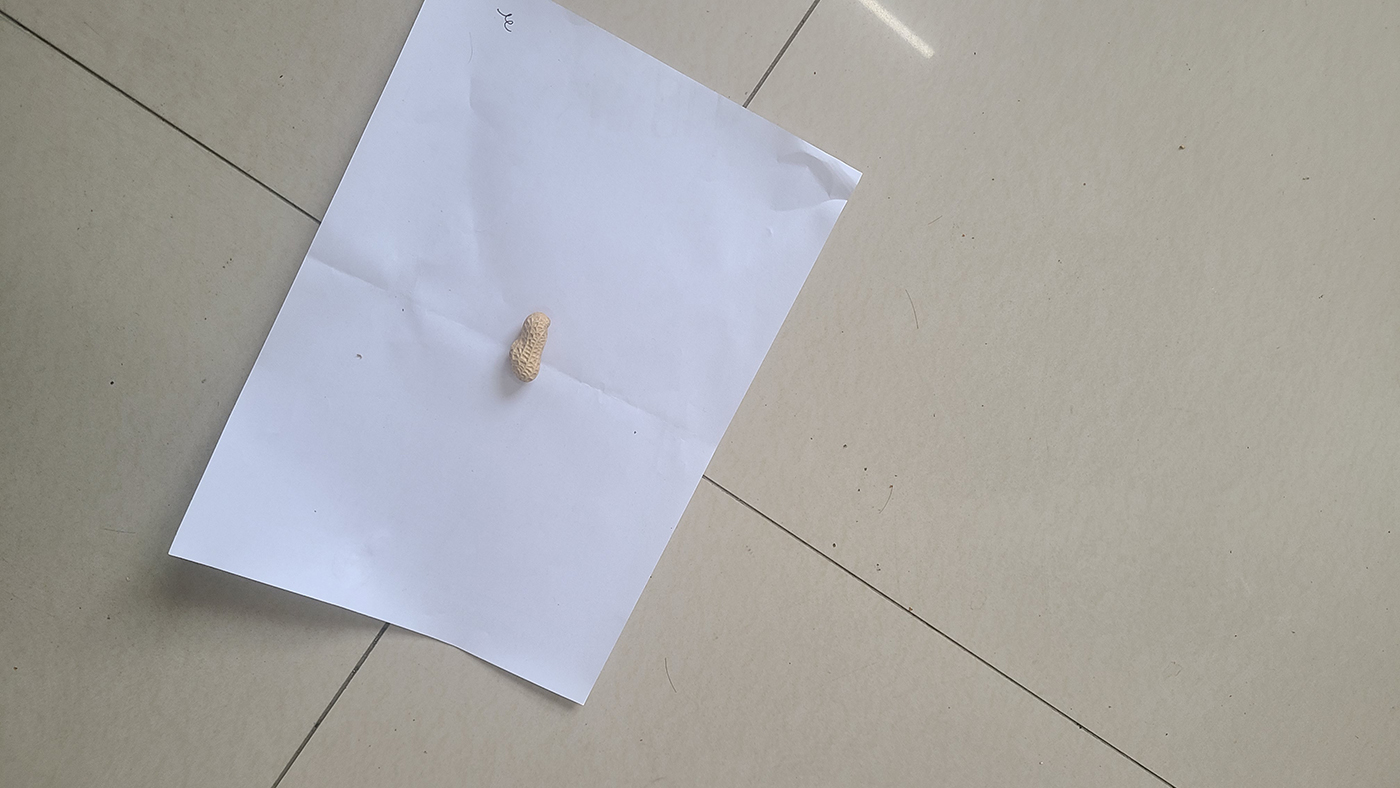h: (509, 312, 551, 382)
